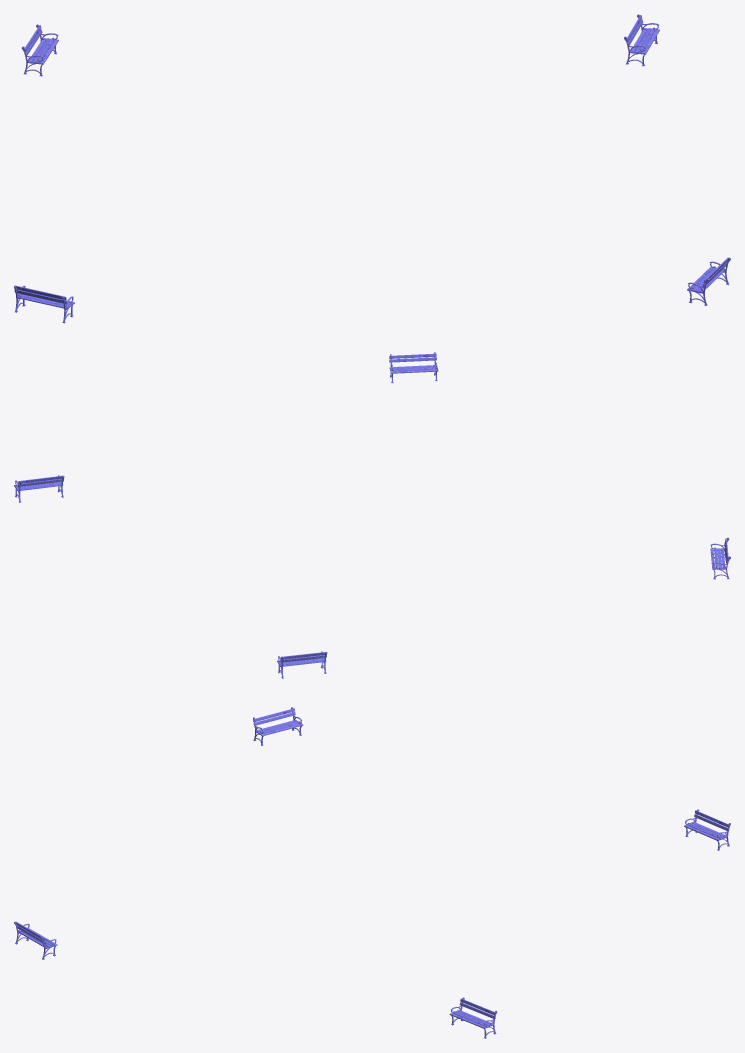
Rendered from panchina4.fbx.
3 views of the same model, one above another, from view 1: azimuth 30°, elevation 25°; view 2: azimuth 150°, elevation 25°; view 3: azimuth 270°, elevation 25° (orthographic). The views are drawn at different scales.
Visible parts, largest first — view 1: panchina4; view 2: panchina4; view 3: panchina4.
Part boxes in pixels (box(x1,y1,x2,y2)): panchina4: box(14, 14, 730, 323); panchina4: box(14, 352, 730, 678); panchina4: box(14, 707, 730, 1038).
Bounding box in the file's own units: 2362 × 80 × 2308.
